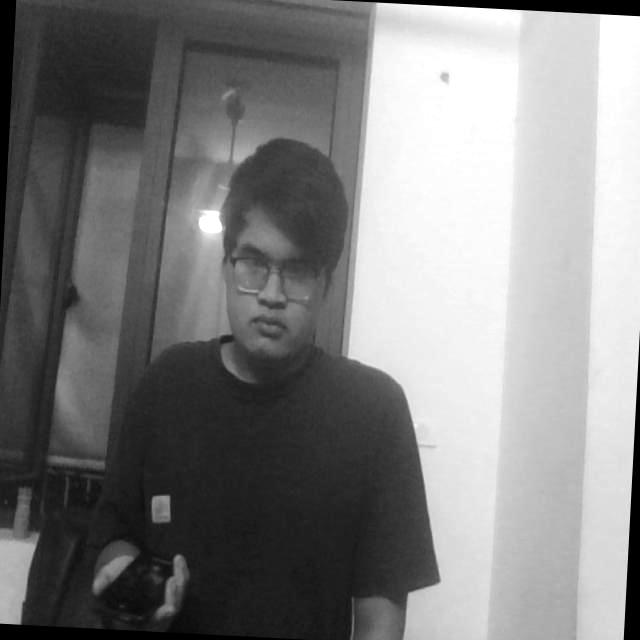phone: (85, 530, 186, 633)
